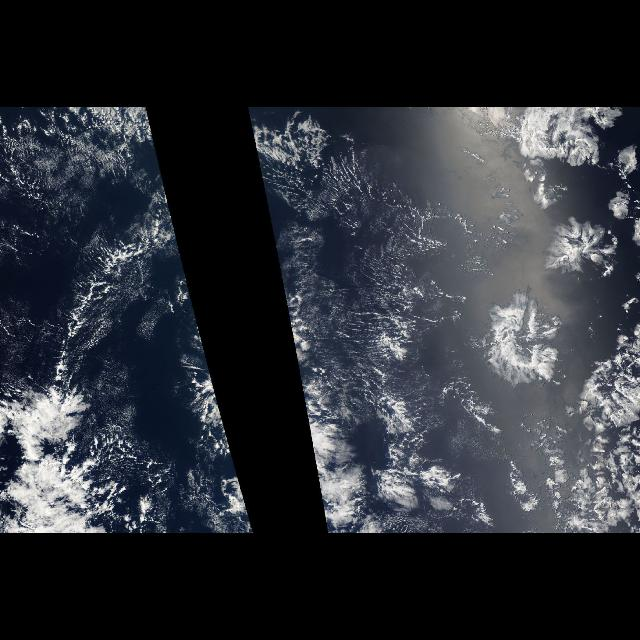Flower: (425, 200, 631, 402)
Sugar: (322, 172, 398, 436)
